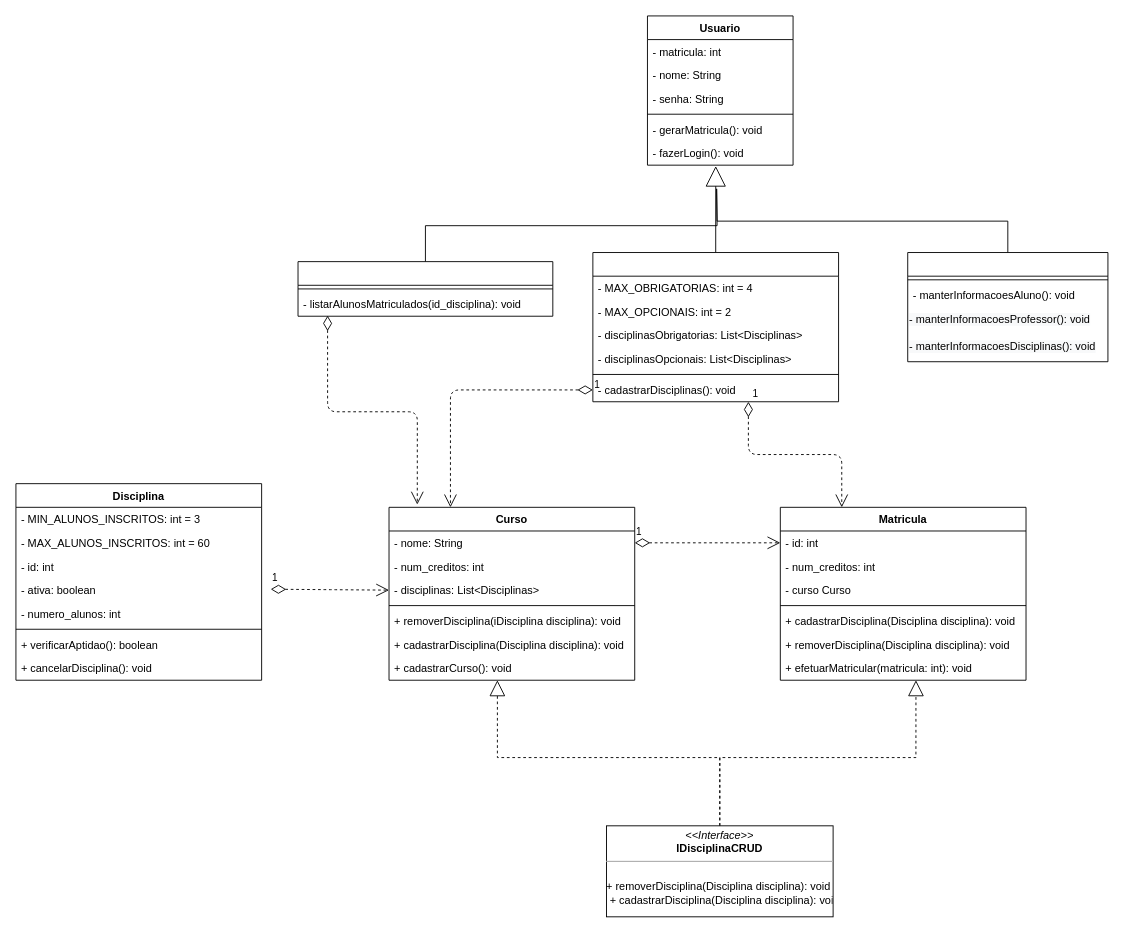
Image size: 1124x933. Some labels were removed from this diagram. The box of each missing label's shape, as (x1, y1, x2, y2) in pixels:
Aluno: (592, 252, 839, 402)
Professor: (297, 261, 553, 316)
Secretaria: (907, 252, 1108, 362)
